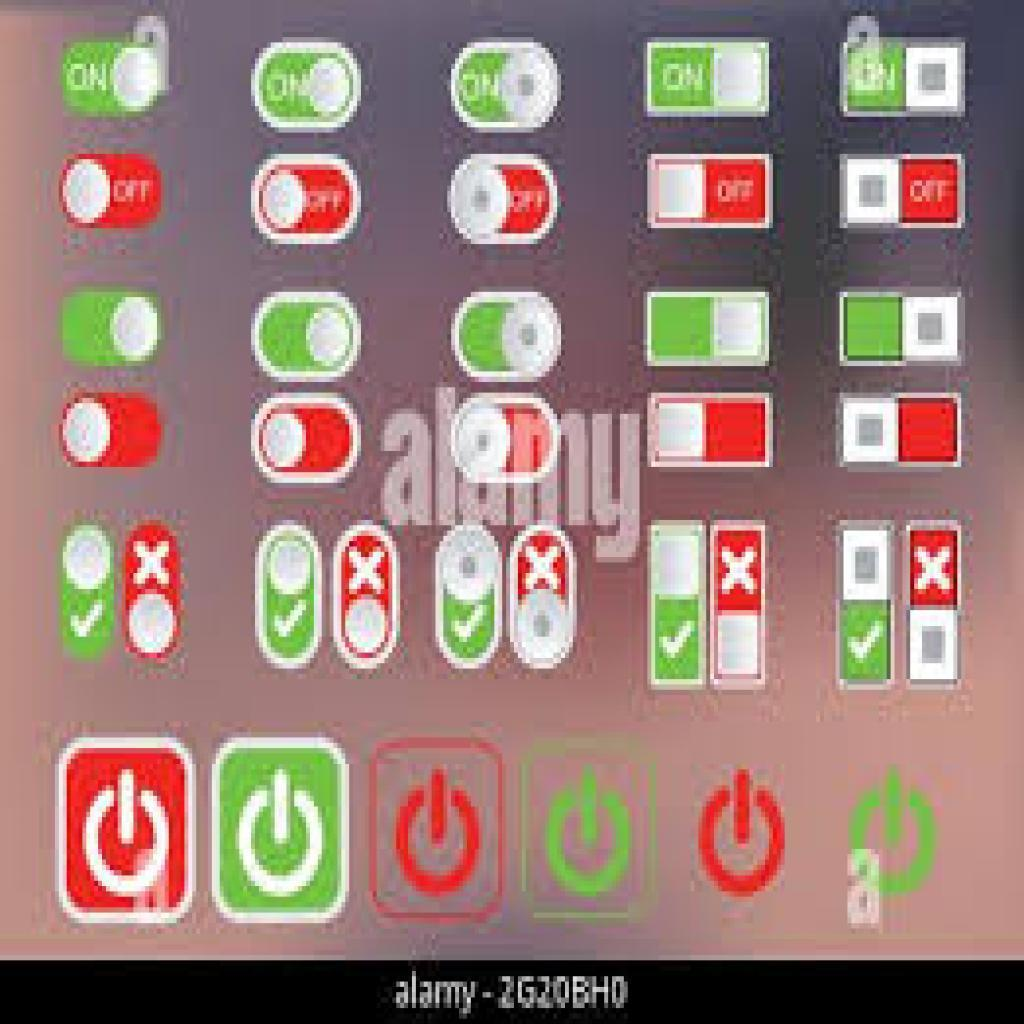switch: (447, 40, 566, 138), (252, 522, 329, 671), (433, 517, 504, 676), (251, 288, 371, 382), (444, 154, 560, 250), (836, 517, 901, 688), (709, 519, 773, 692), (244, 39, 363, 131), (511, 525, 585, 672), (251, 390, 362, 486), (453, 286, 564, 381), (646, 153, 779, 232), (843, 39, 968, 123), (903, 517, 963, 692), (649, 36, 773, 120), (453, 396, 560, 493), (650, 389, 776, 471), (840, 150, 968, 230), (252, 156, 363, 247), (335, 523, 402, 673), (839, 292, 965, 371), (649, 522, 706, 689), (647, 291, 772, 367), (123, 521, 188, 666), (838, 396, 965, 470), (58, 388, 164, 473), (56, 41, 165, 119), (61, 148, 162, 229), (58, 288, 161, 366), (63, 520, 116, 662)
